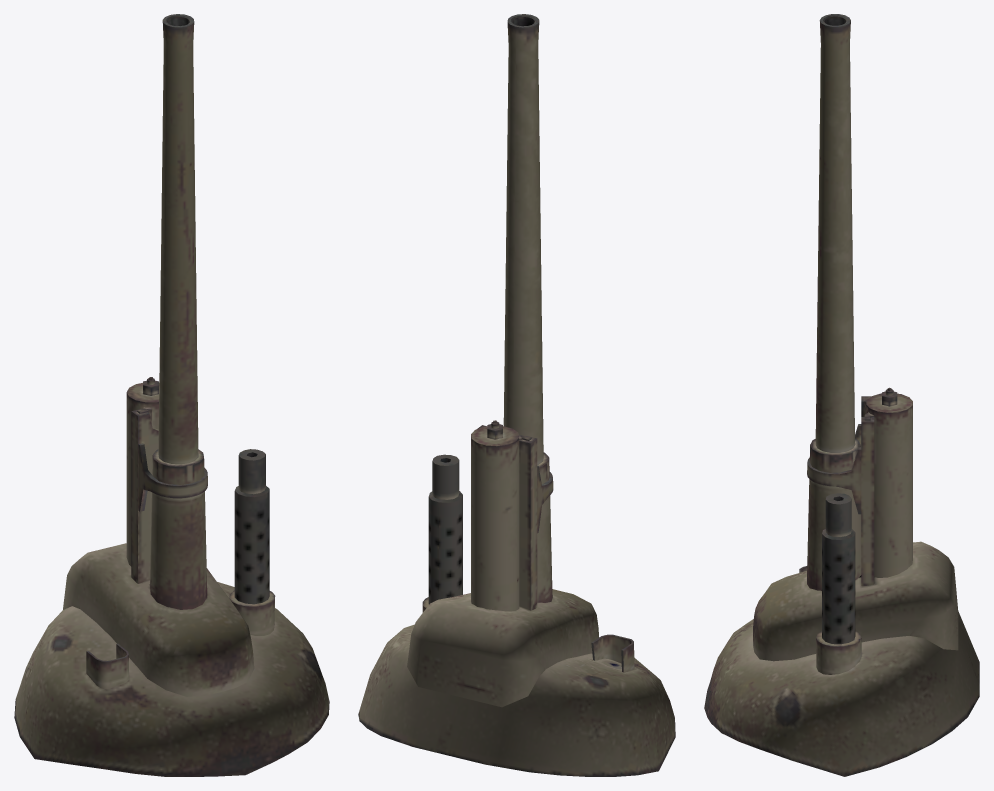
File: Gun_02.glb
The picture shows the model from 3 angles, left to right: view 1: azimuth 30°, elevation 25°; view 2: azimuth 150°, elevation 25°; view 3: azimuth 270°, elevation 25°; orthographic projection. The views are drawn at different scales.
Visible parts, largest first — view 1: set_0_group_0; view 2: set_0_group_0; view 3: set_0_group_0.
Boxes of the visible parts, x1,y1,x2,y2 form: set_0_group_0: (14,14,329,776); set_0_group_0: (358,14,675,776); set_0_group_0: (704,14,979,776).
Bounding box in the file's own units: 0.5284 × 1.29 × 0.4645.
Materials: 1 (1 with a texture image).
